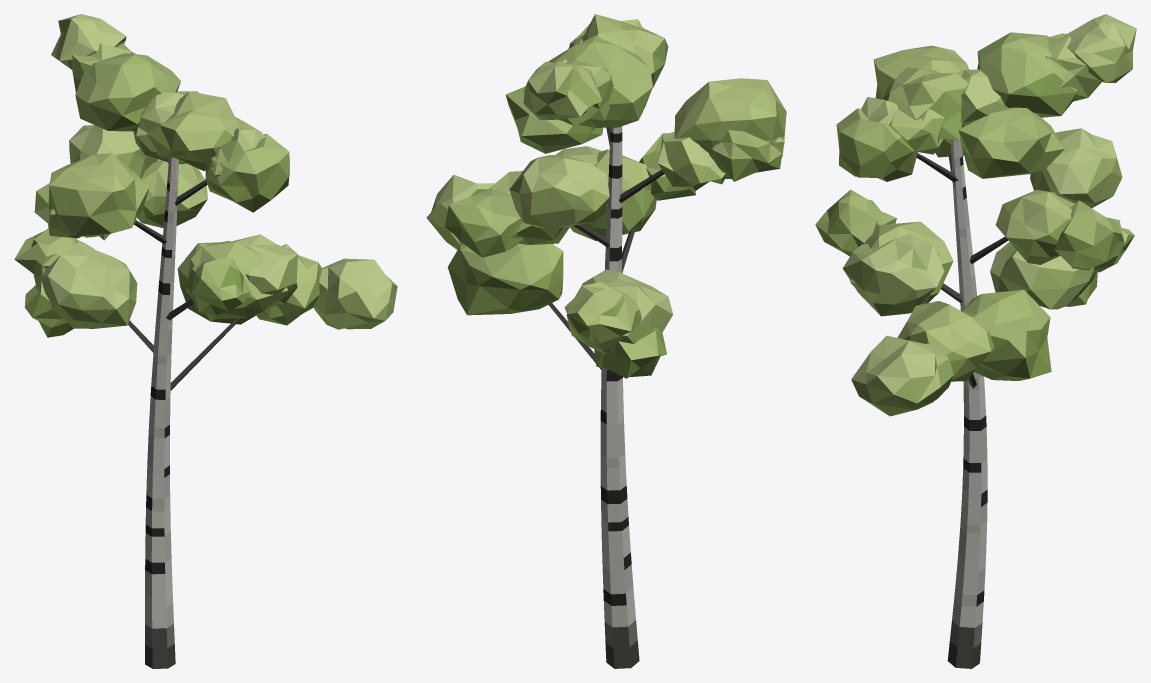
Rendered from river_birch.glb.
The picture shows the model from 3 angles, left to right: view 1: azimuth 30°, elevation 25°; view 2: azimuth 150°, elevation 25°; view 3: azimuth 270°, elevation 25°; orthographic projection. The views are drawn at different scales.
Parts seen in each view (by area): view 1: river_birch; view 2: river_birch; view 3: river_birch.
Part boxes in pixels (bbox=[...]): river_birch: bbox=[14, 14, 397, 668]; river_birch: bbox=[426, 14, 786, 668]; river_birch: bbox=[815, 14, 1136, 668].
Bounding box in the file's own units: 6.31 × 10.87 × 4.97.
